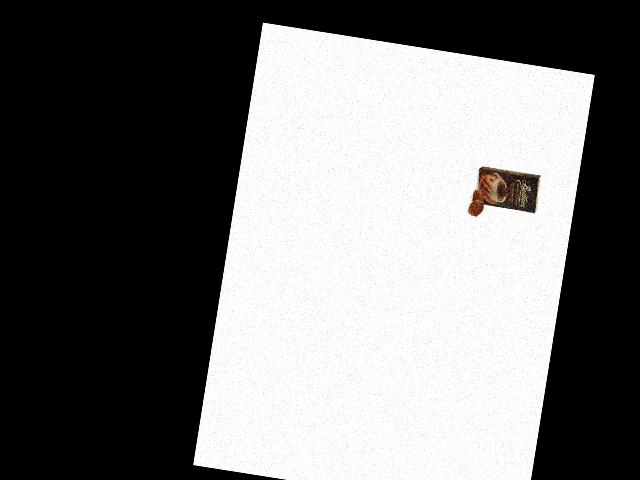chocolate: (471, 163, 544, 219)
